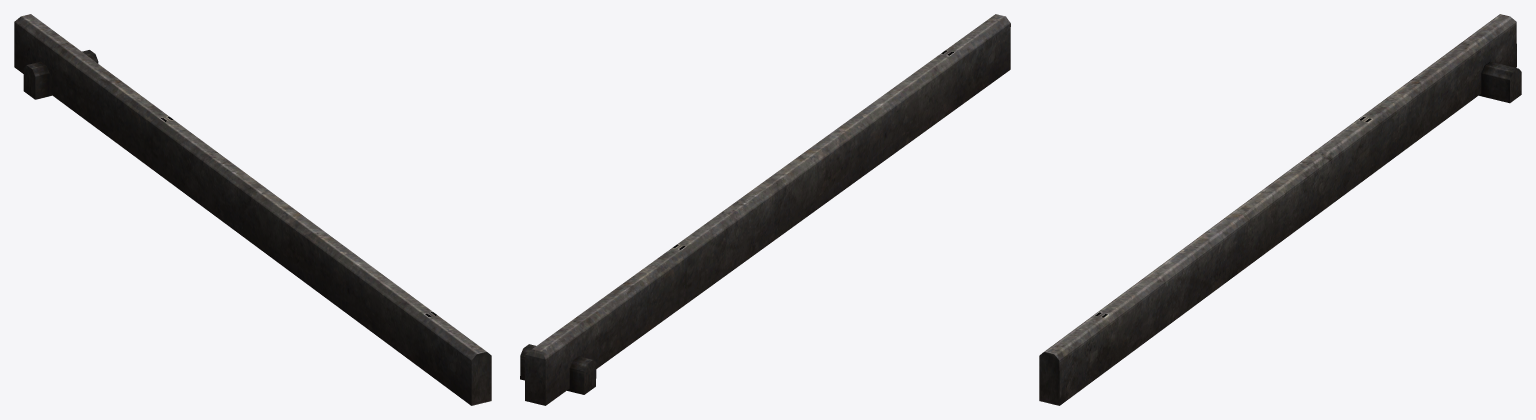
File: floor_grate_piece.dae
3 views of the same model, side by side, from view 1: azimuth 30°, elevation 25°; view 2: azimuth 150°, elevation 25°; view 3: azimuth 330°, elevation 25° (orthographic).
Parts seen in each view (by area): view 1: polySurface520; view 2: polySurface520; view 3: polySurface520.
Part boxes in pixels (x1=…): polySurface520: x1=14, y1=14, x2=491, y2=405; polySurface520: x1=520, y1=14, x2=1010, y2=405; polySurface520: x1=1039, y1=14, x2=1521, y2=405.
Size of the model in its own units: 0.0725 by 0.0602 by 0.9115.
